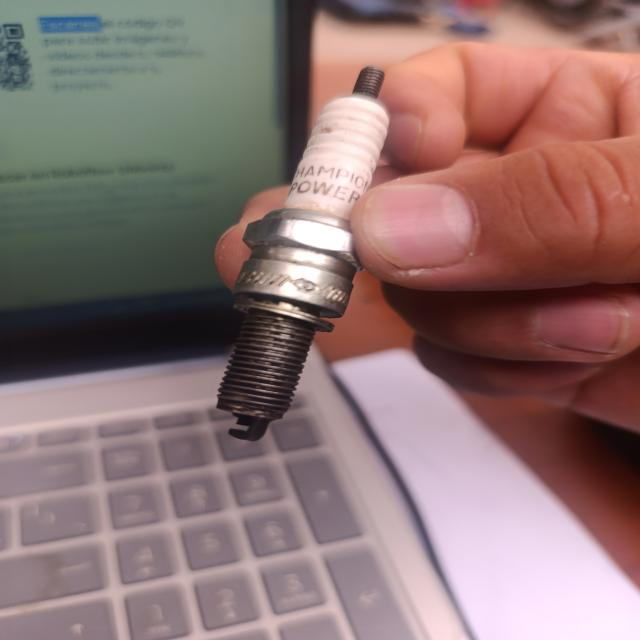bujia: (217, 67, 389, 441)
